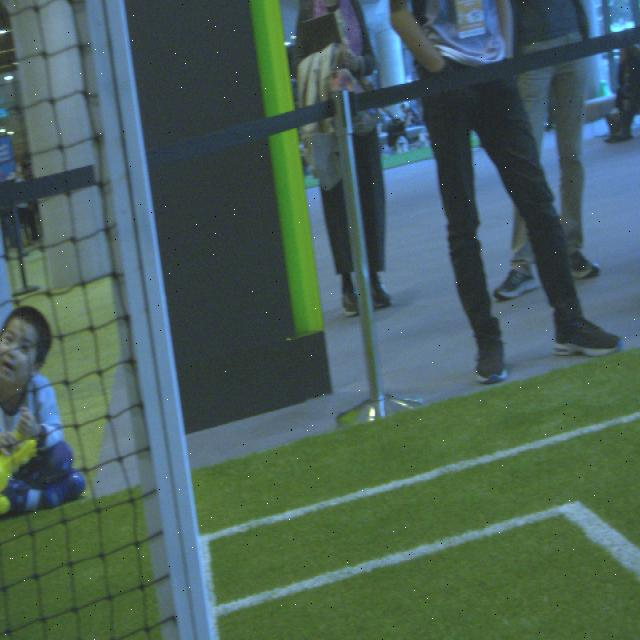goalpost: (86, 1, 212, 638)
